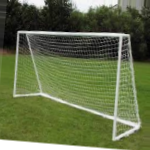goals: (12, 30, 144, 142)
